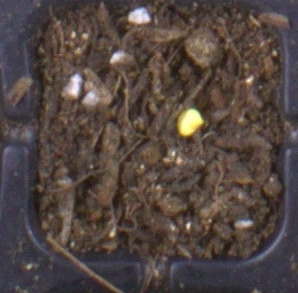chilli seed: (176, 108, 204, 136)
